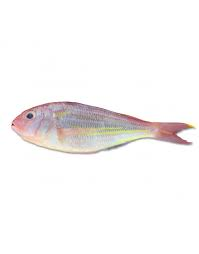Ikan Kerisi: (9, 103, 189, 154)
